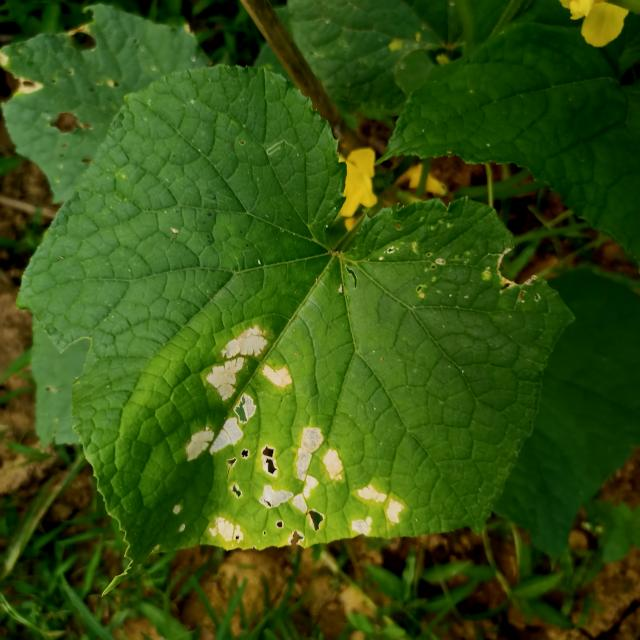disease_cucumber: (162, 308, 410, 548)
